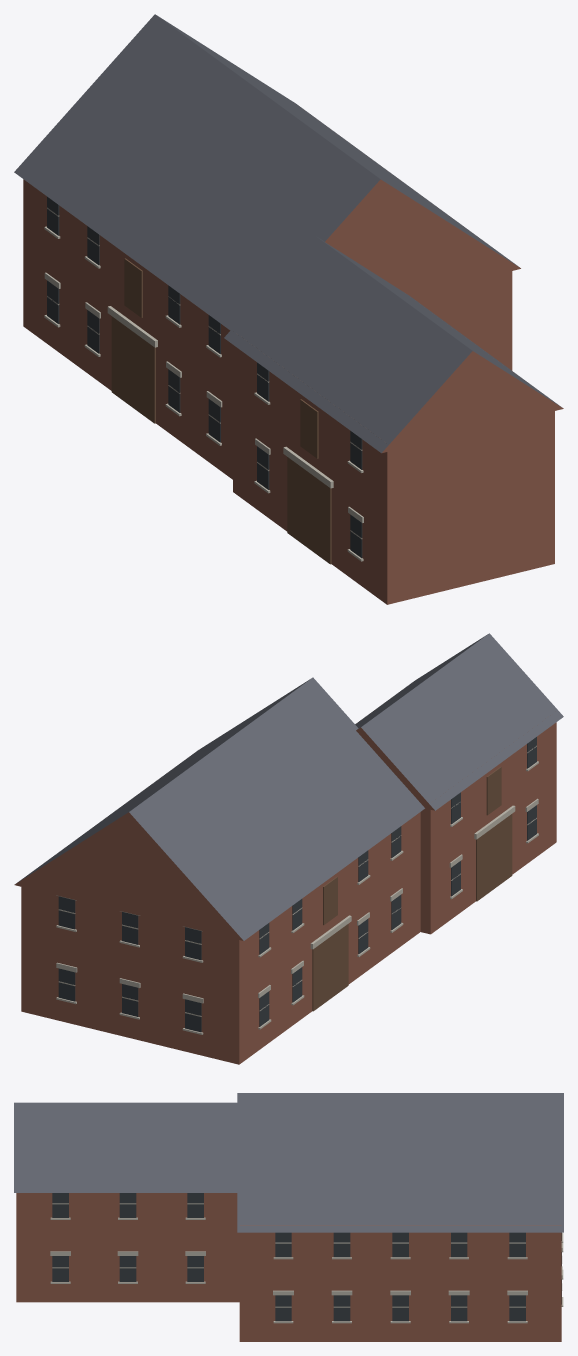
File: house_1703_indiana_coach_house__draft_1904.glb
3 renders of one model, top to bottom at view 1: azimuth 30°, elevation 25°; view 2: azimuth 150°, elevation 25°; view 3: azimuth 270°, elevation 25°, orthographic. The views are drawn at different scales.
Parts seen in each view (by area): view 1: house_1703_indiana_coach_house__draft_1904; view 2: house_1703_indiana_coach_house__draft_1904; view 3: house_1703_indiana_coach_house__draft_1904.
Boxes of the visible parts, x1,y1,x2,y2 form: house_1703_indiana_coach_house__draft_1904: (14, 14, 563, 604); house_1703_indiana_coach_house__draft_1904: (14, 633, 563, 1064); house_1703_indiana_coach_house__draft_1904: (14, 1093, 563, 1341).
Size of the model in its own units: 11.85 by 10.71 by 26.49.
